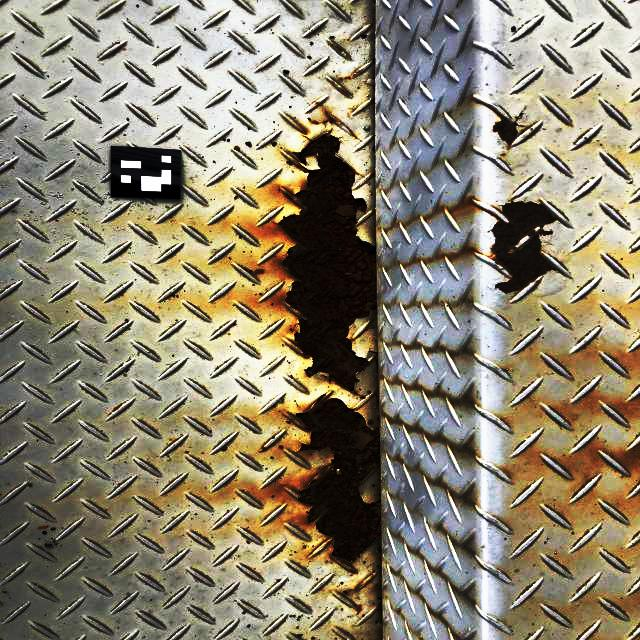Corrosion: (269, 128, 377, 396), (293, 393, 382, 567), (488, 200, 559, 294), (493, 110, 526, 147), (312, 112, 343, 125), (338, 70, 362, 81), (333, 44, 344, 52), (341, 88, 350, 96), (355, 605, 362, 615), (375, 585, 383, 593), (349, 568, 358, 574), (260, 445, 268, 450)
